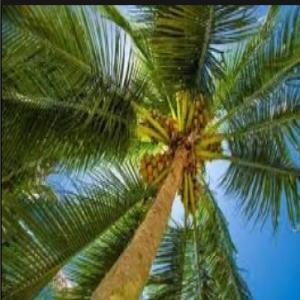palm tree: (1, 3, 299, 299)
